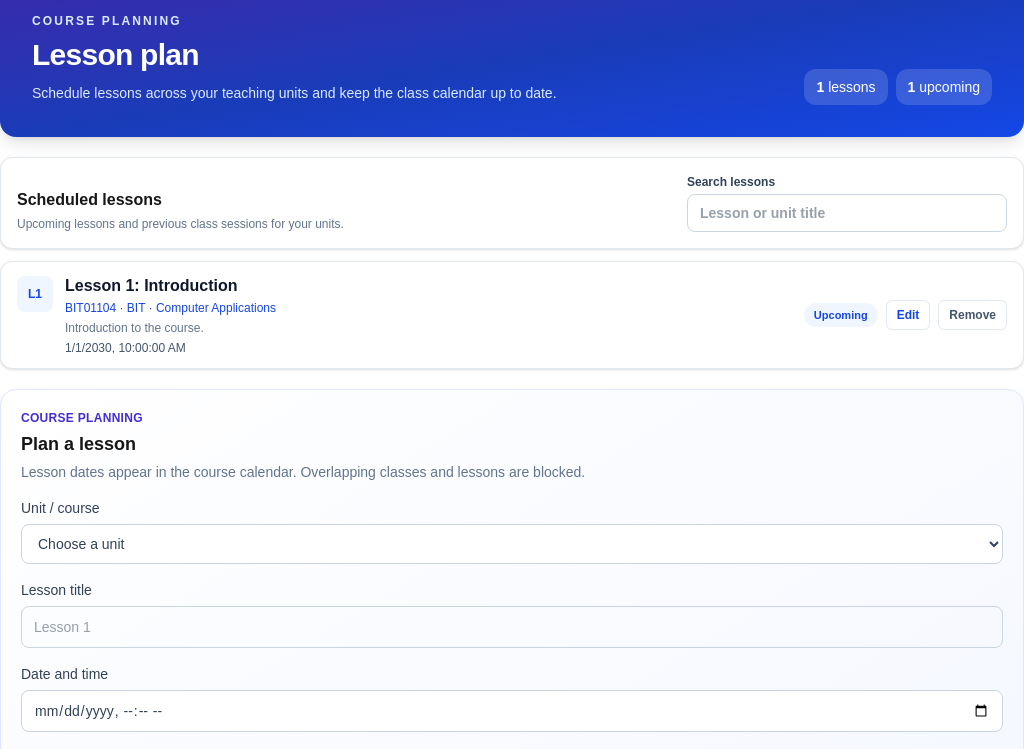
Scenario: lecturer lesson plan page › schedules a lesson for a selected unit and shows confirmation
The width and height of the screenshot is (1024, 749).
Check: the text "Lesson 1: Introduction" is shown, box [65,277,238,294]
Select "BIT01104 · BIT — Computer Applications" in the dropdown labelled "Unit / course" at (512, 544), box [21,524,1003,564]
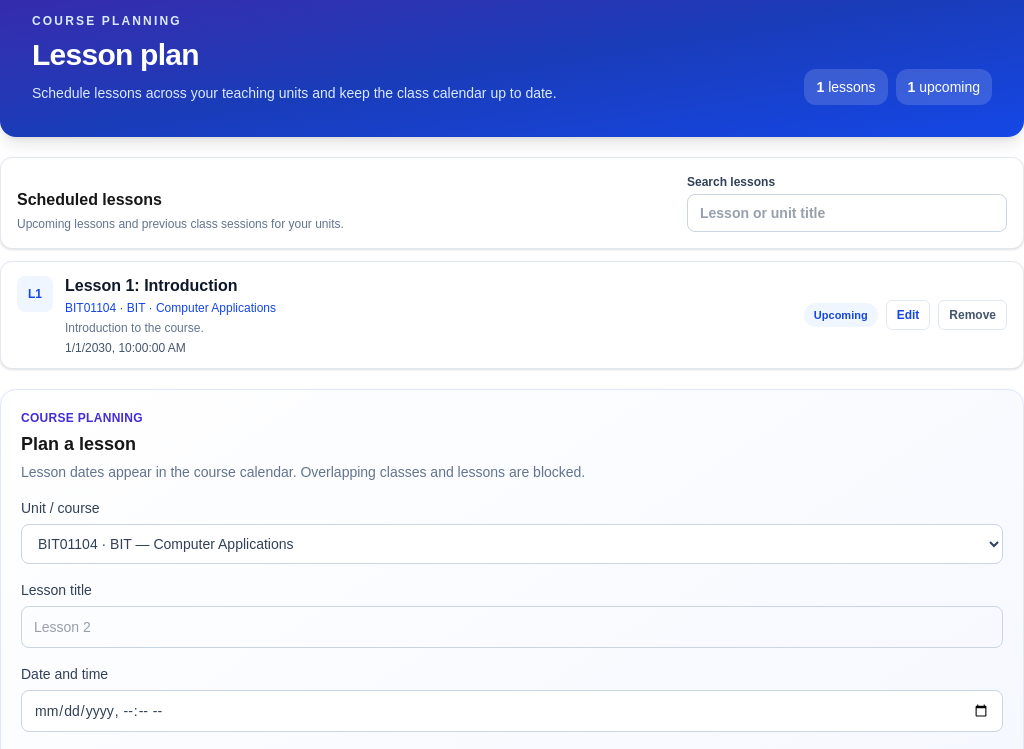
Type "Lesson 2: Spreadsheets" into the field labelled "Lesson title".
click(512, 627); type("Lesson 2: Spreadsheets")  # box [21,606,1003,648]
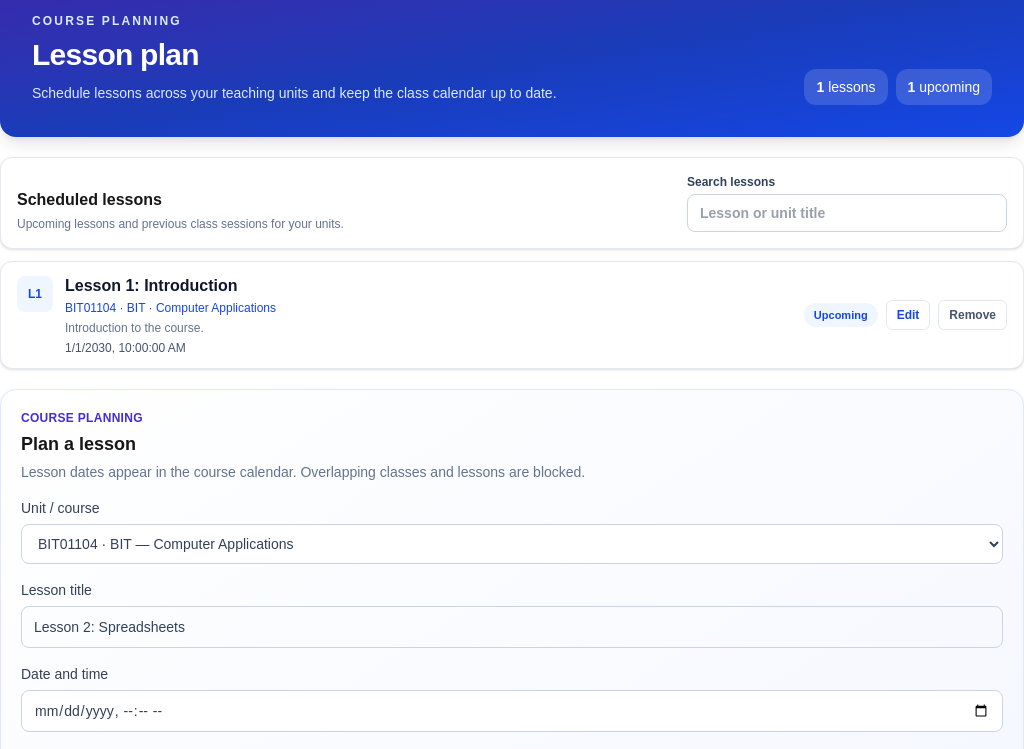
Type "2030-01-04T10:00" into the field labelled "Date and time".
click(512, 711); type("2030-01-04T10:00")  # box [21,690,1003,732]
(page scrolled)
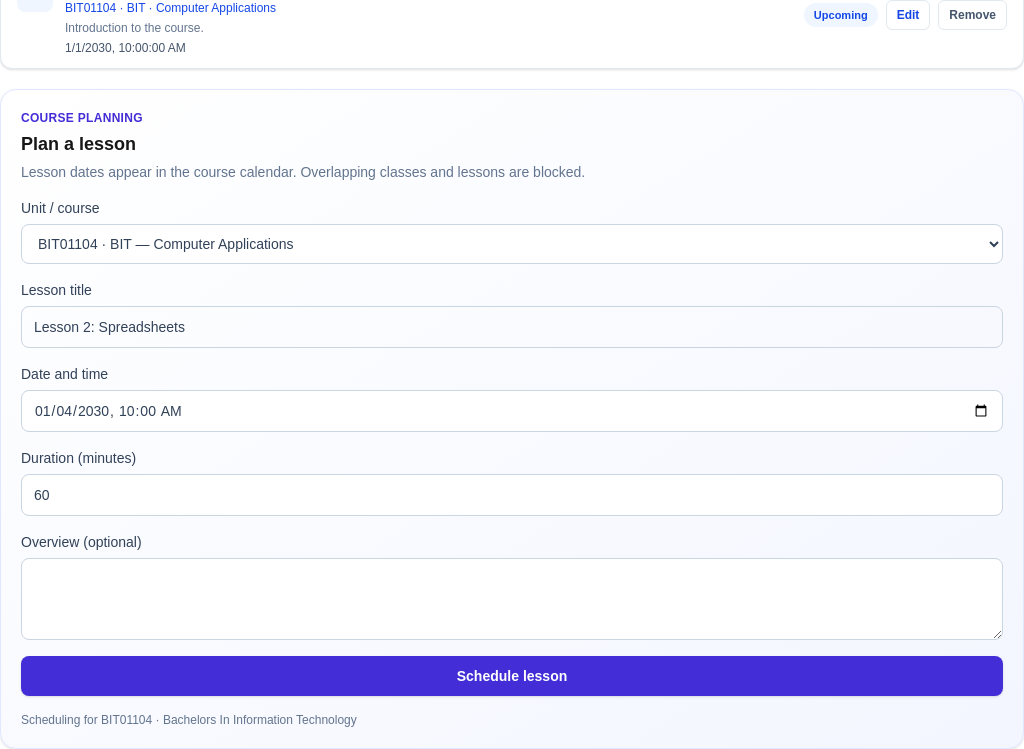
Click the button "Schedule lesson".
click(512, 676)  # box [21,656,1003,696]
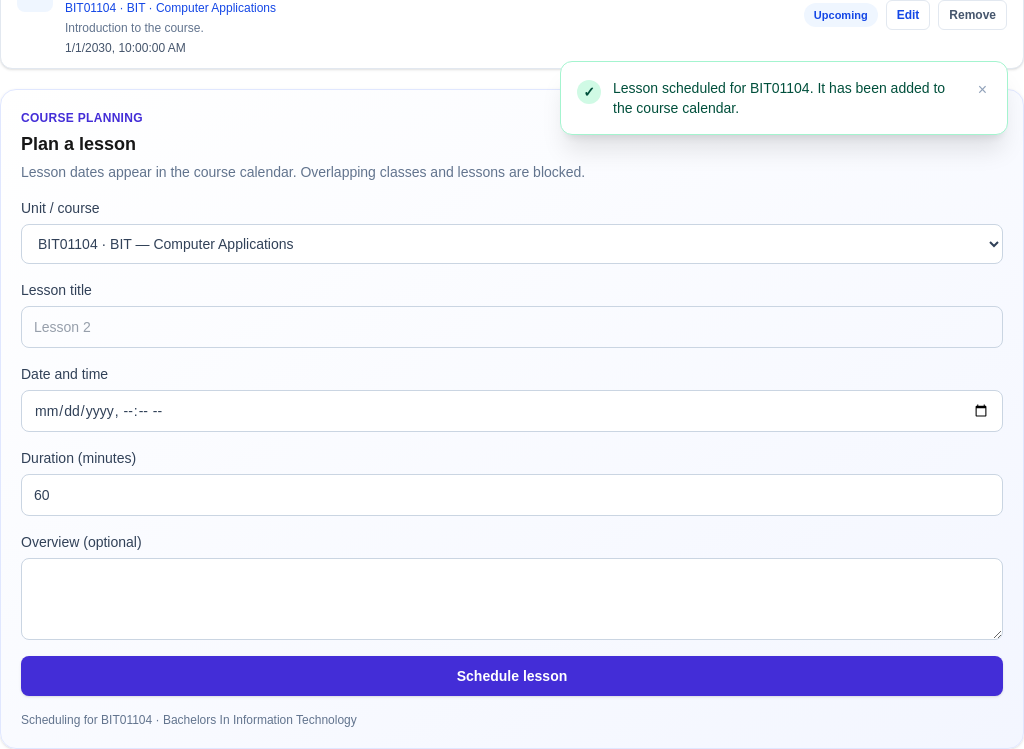
Check: the message shows "Lesson scheduled for BIT01104.", box [613,80,945,116]
